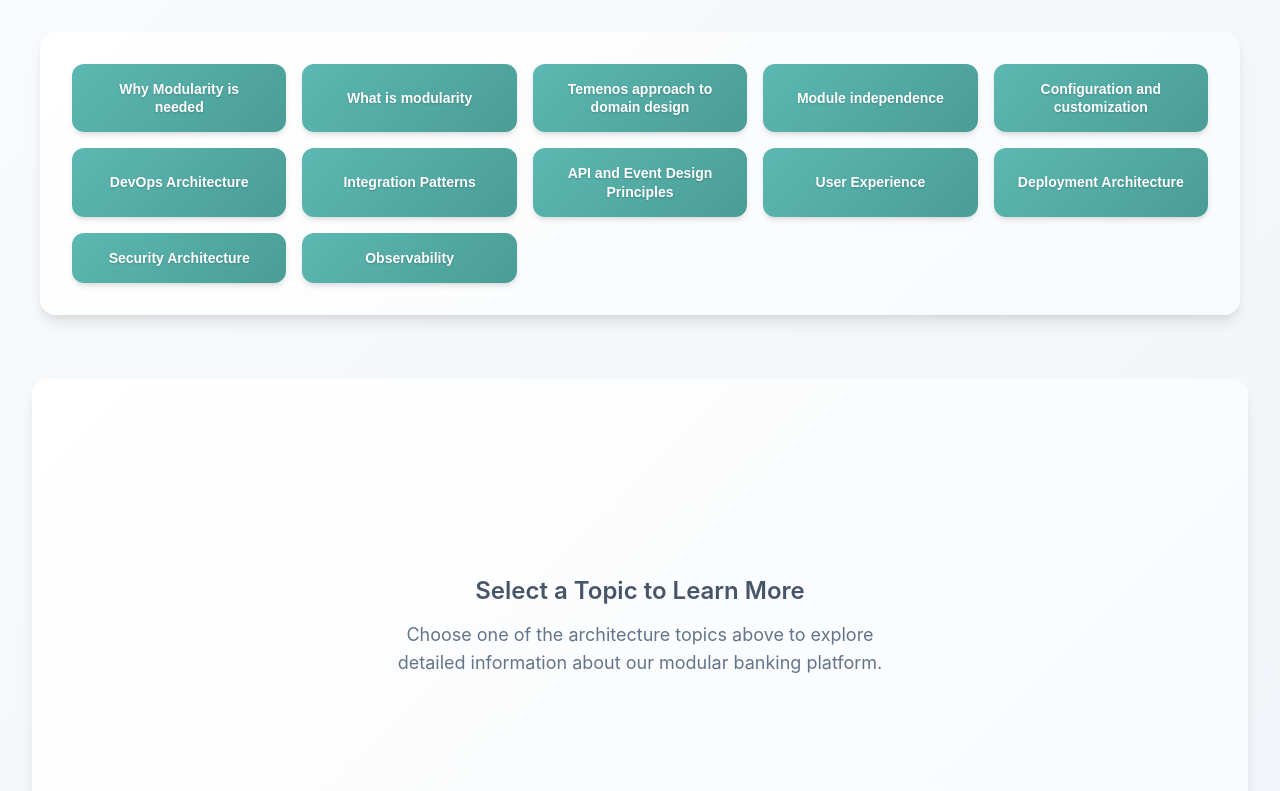
Scenario: ModularArchitecture Component › displays correct content when topic button is clicked
// Click on the first topic button to display content
Click the button "Why Modularity is needed". click: (179,98)
box: top-left (72, 64), bottom-right (286, 132)
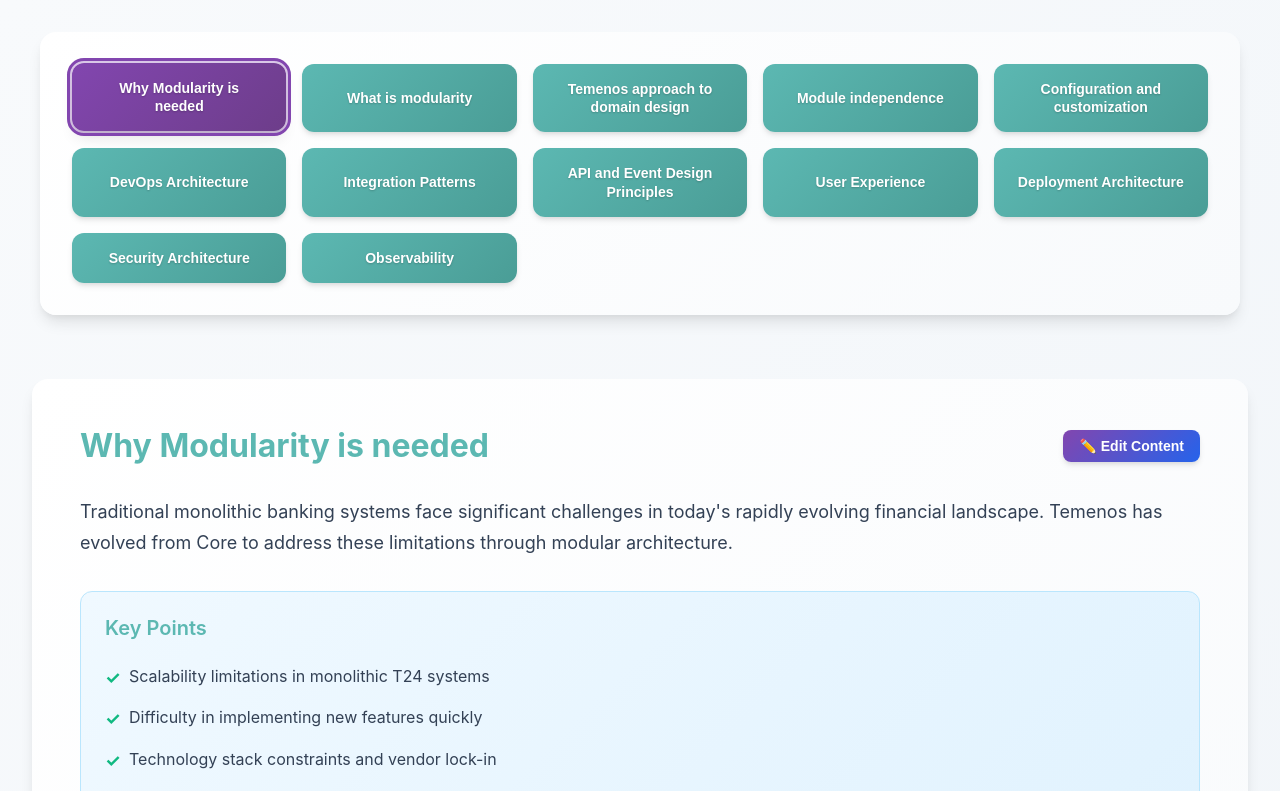
Expected: the text "Traditional monolithic banking" is shown, top-left (80, 501), bottom-right (1162, 553)
Expected: the list item "Scalability limitations in monolithic T24 systems" is shown, top-left (129, 666), bottom-right (490, 686)
